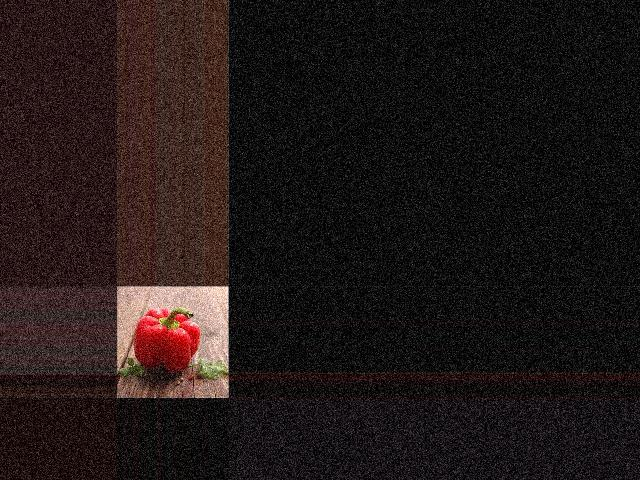bell_pepper: (129, 302, 203, 374)
